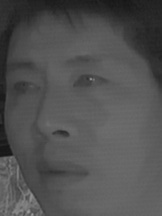eye: (10, 78, 44, 102), (73, 72, 110, 94)
mouth: (32, 155, 92, 188)
